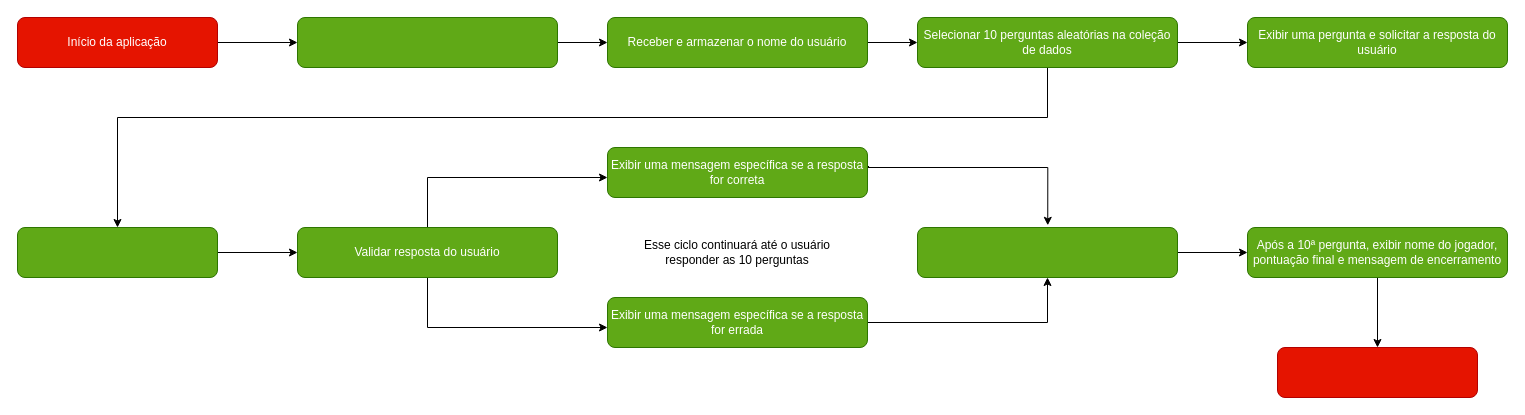
Some shapes in this 1525 by 415 pixel diagram are drawn without their labels. The box of each missing label's shape, as (x1, y1, x2, y2) in pixels:
Exibir mensagem de boas-vindas e solicitar o nome do usuário: (296, 16, 558, 68)
Exibir nova pergunta: (916, 226, 1178, 278)
Fim da aplicação: (1276, 346, 1478, 398)
Receber a resposta do usuário: (16, 226, 218, 278)
